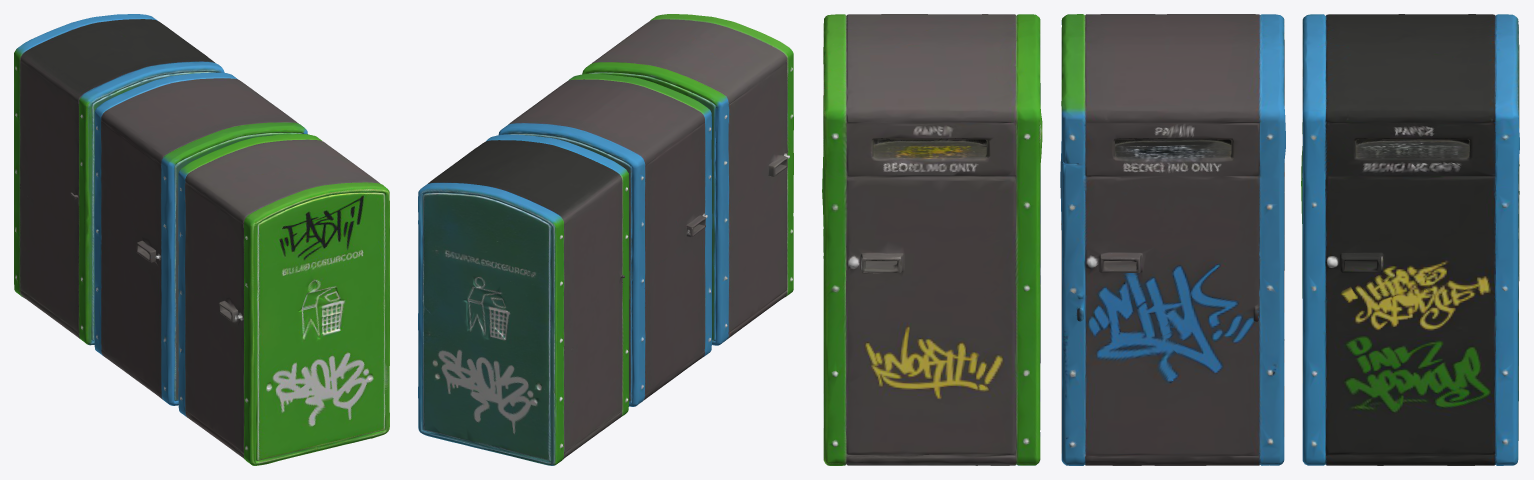
File: garbagecanset3d.glb
The picture shows the model from 3 angles, left to right: view 1: azimuth 30°, elevation 25°; view 2: azimuth 150°, elevation 25°; view 3: azimuth 270°, elevation 25°; orthographic projection. The views are drawn at different scales.
Parts seen in each view (by area): view 1: tripo_node_5072928a-b638-41e5-8418-f2b7a395d0ea; view 2: tripo_node_5072928a-b638-41e5-8418-f2b7a395d0ea; view 3: tripo_node_5072928a-b638-41e5-8418-f2b7a395d0ea.
Part boxes in pixels (x1,y1,x2,y2): tripo_node_5072928a-b638-41e5-8418-f2b7a395d0ea: (14, 14, 389, 465); tripo_node_5072928a-b638-41e5-8418-f2b7a395d0ea: (418, 14, 793, 465); tripo_node_5072928a-b638-41e5-8418-f2b7a395d0ea: (822, 14, 1519, 465).
Size of the model in its own units: 0.3668 by 0.6011 by 1.
Materials: 1 (1 with a texture image).
